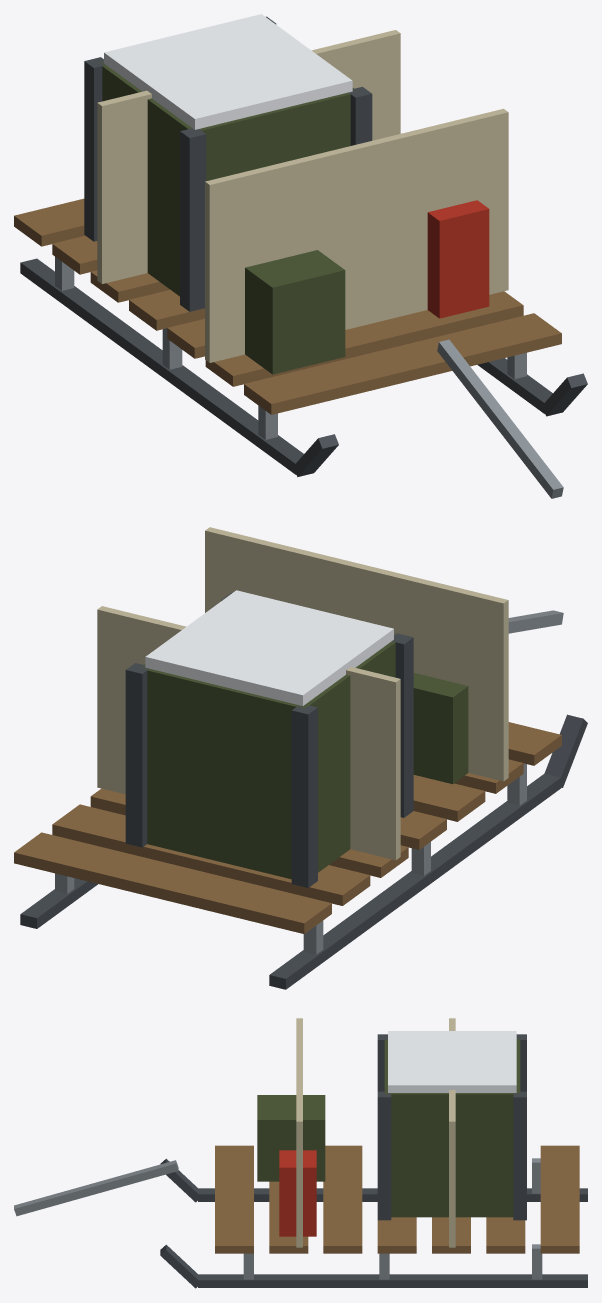
File: so_supply_sled.glb
The picture shows the model from 3 angles, top to bottom: view 1: azimuth 30°, elevation 25°; view 2: azimuth 150°, elevation 25°; view 3: azimuth 270°, elevation 25°; orthographic projection. The views are drawn at different scales.
Visible parts, largest first — view 1: so_supply_sled; view 2: so_supply_sled; view 3: so_supply_sled.
Boxes of the visible parts, x1,y1,x2,y2 form: so_supply_sled: [14, 14, 587, 498]; so_supply_sled: [14, 527, 587, 989]; so_supply_sled: [14, 1018, 587, 1288].
Size of the model in its own units: 1.44 by 1.15 by 3.39.
